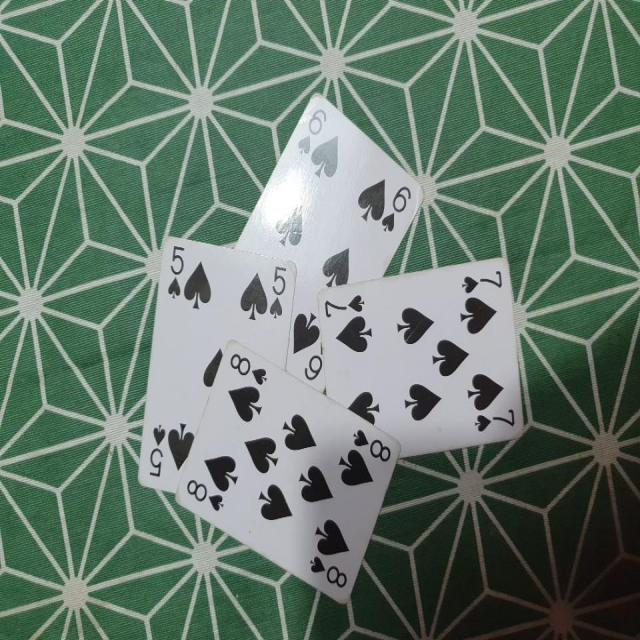5 Spades: (129, 225, 301, 499)
6 Spades: (219, 99, 423, 342)
7 Spades: (321, 248, 526, 464)
8 Spades: (165, 351, 403, 628)
